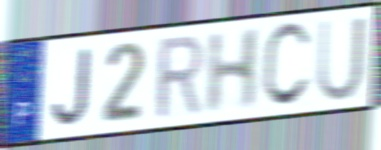2: (100, 40, 149, 127)
C: (259, 19, 313, 112)
H: (203, 24, 264, 117)
J: (49, 46, 94, 130)
R: (155, 31, 205, 123)
U: (315, 13, 368, 105)
